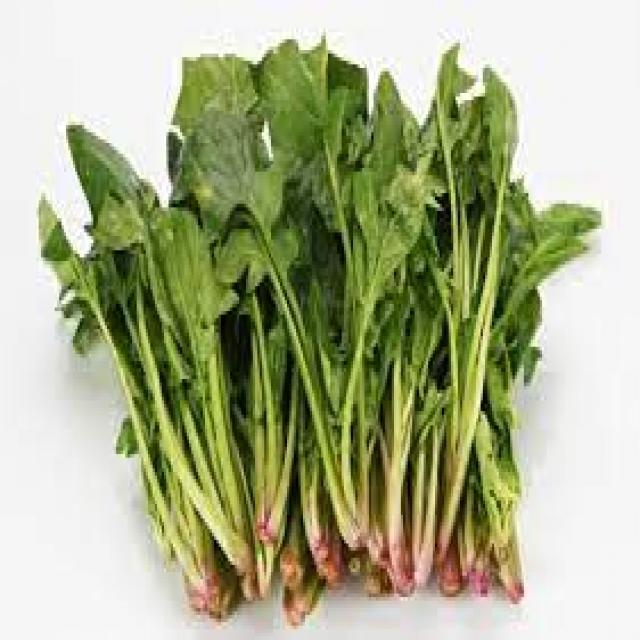spinach: (41, 39, 601, 624)
